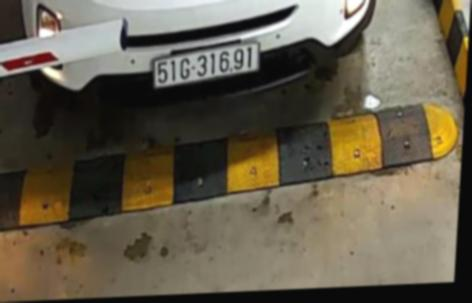License_Plate: (148, 45, 266, 92)
